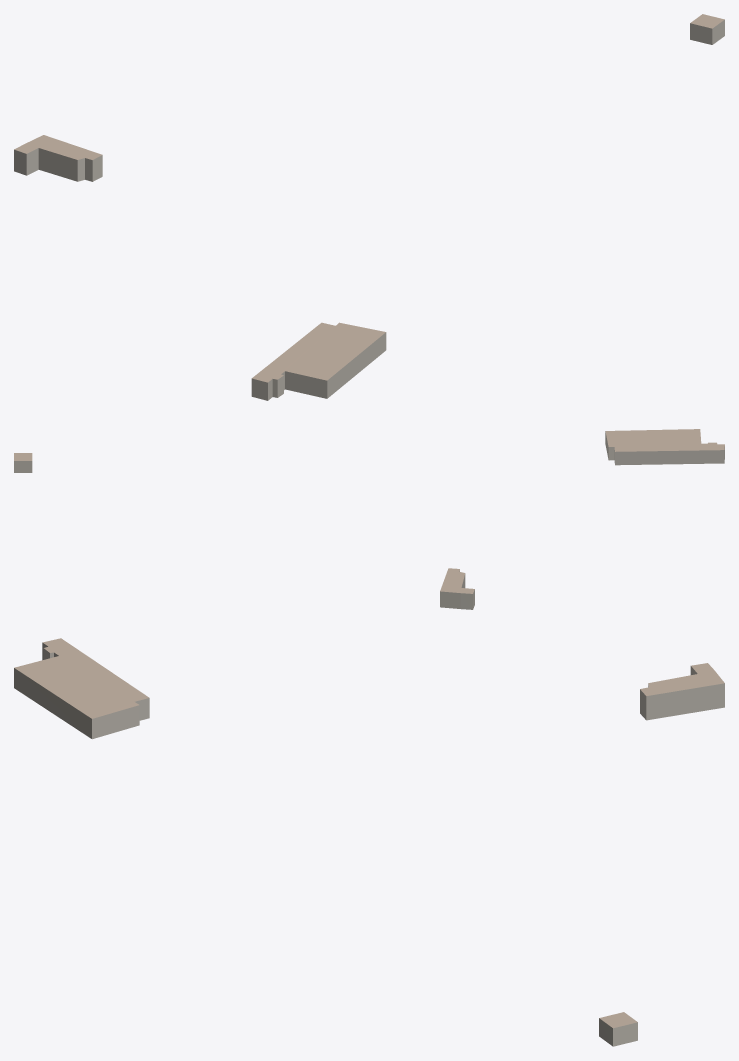
3 views of the same model, one above another, from view 1: azimuth 30°, elevation 25°; view 2: azimuth 150°, elevation 25°; view 3: azimuth 270°, elevation 25° (orthographic). The views are drawn at different scales.
Bounding box in the file's own units: 597 × 17.26 × 458.
